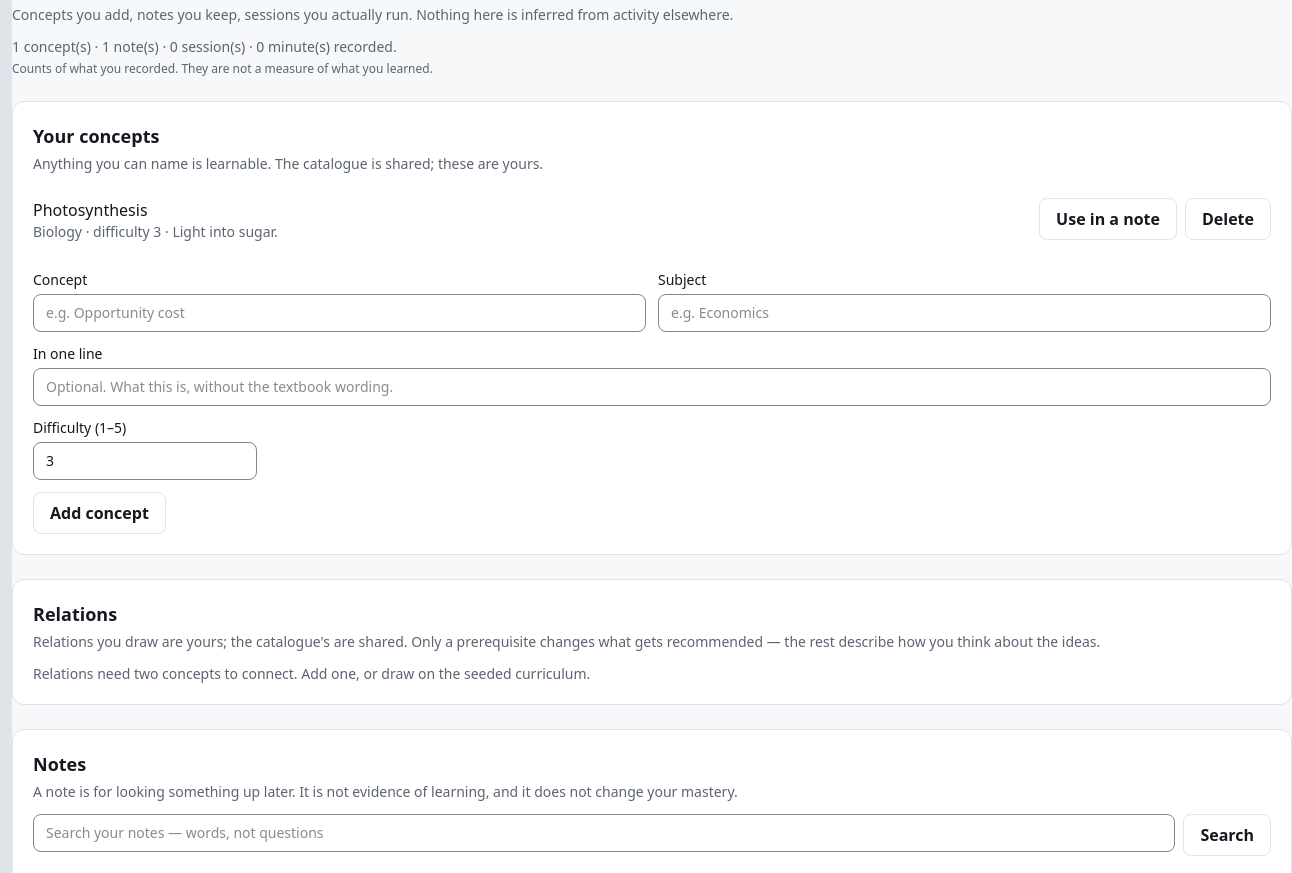
LibraryPage — notes and search › says plainly when nothing matched instead of showing an empty list
Step 1. Type "entropy" into the field labelled "Search your notes" → (604, 833), box [33,814,1175,852]
Then press Enter
(page scrolled)
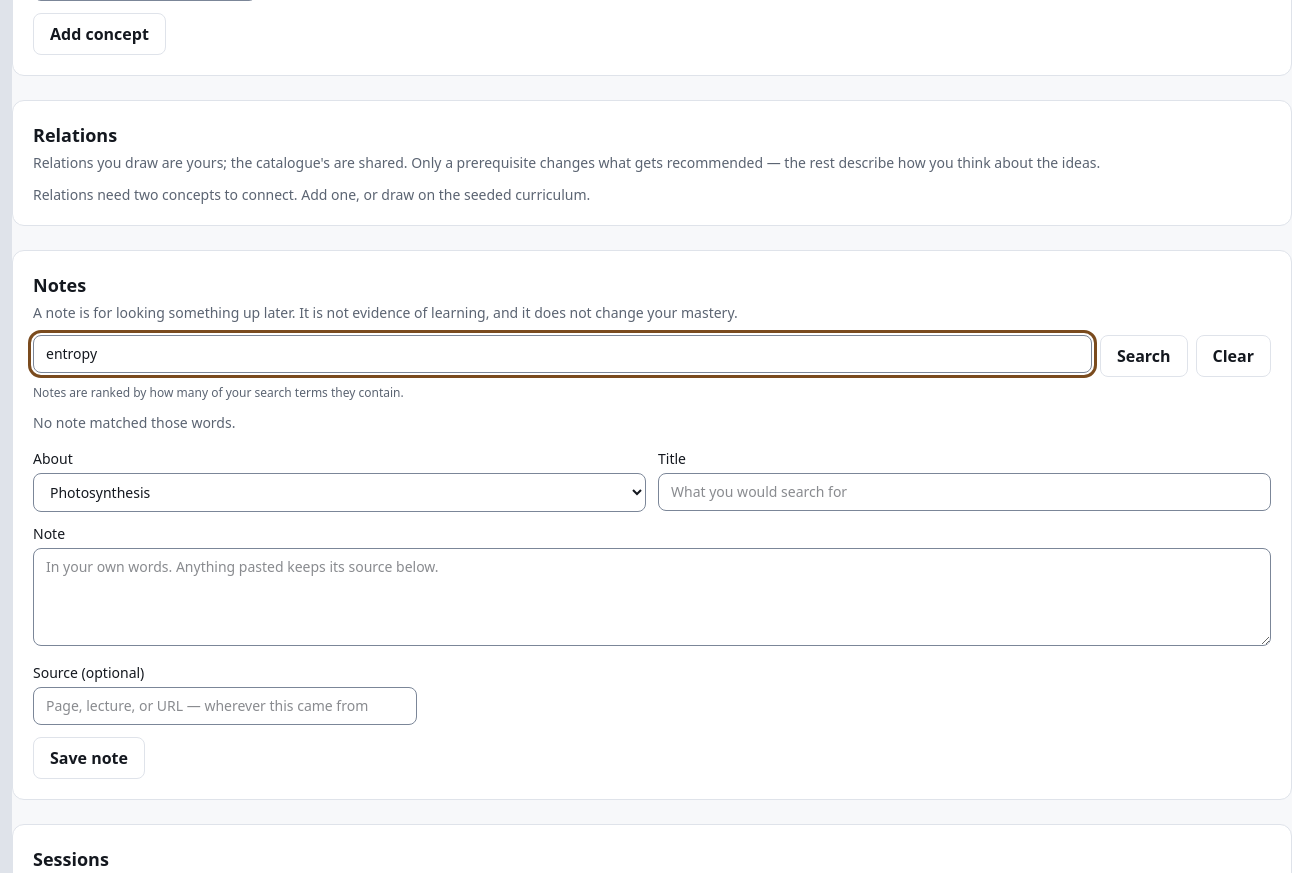
Expected: the text "No note matched those words." is shown, [33,413,236,432]
